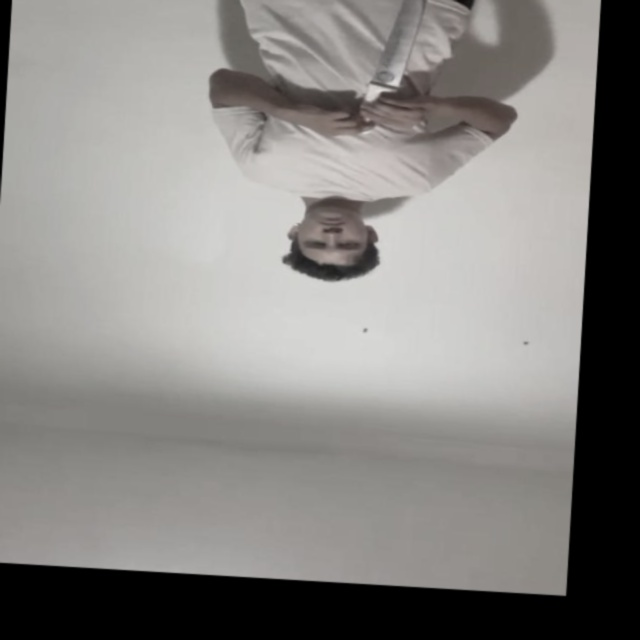Sharp-Object: (373, 0, 426, 90)
